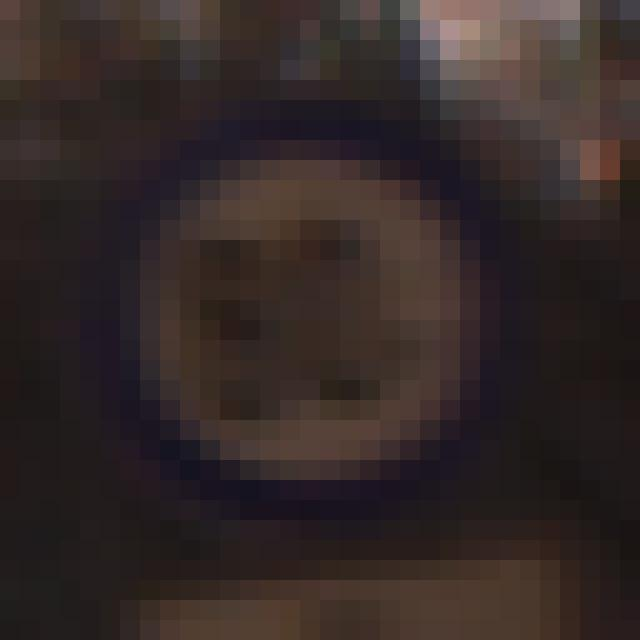SPEED-LIMIT-80: (95, 133, 522, 511)
